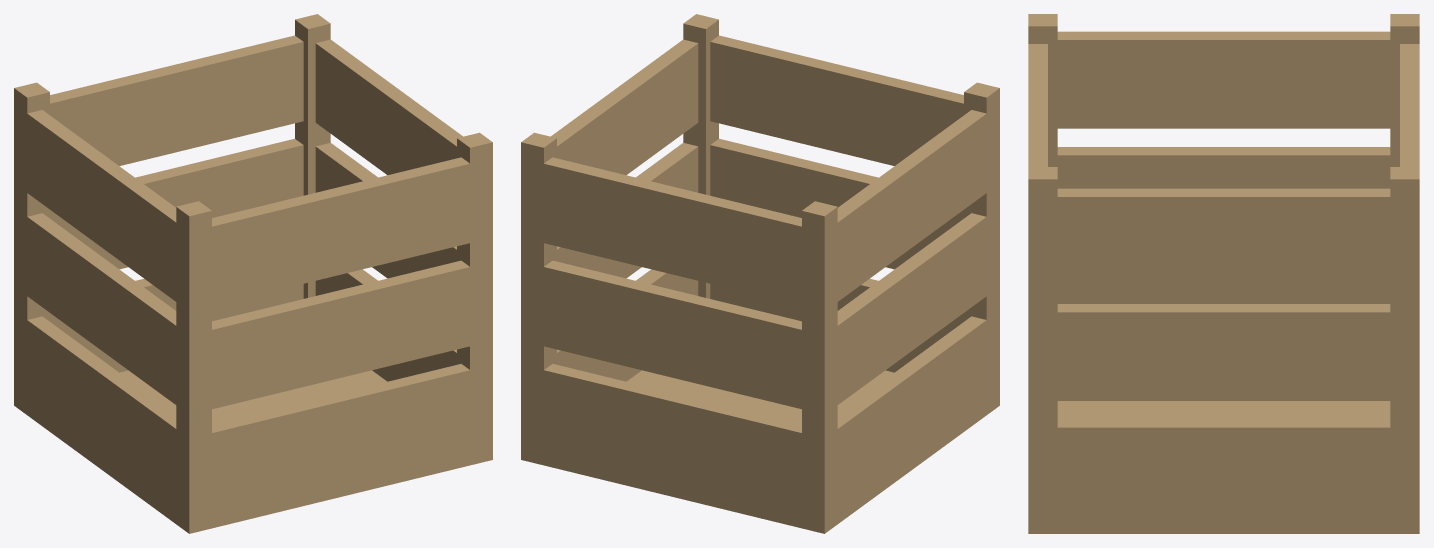
Rendered from caja.glb.
3 views of the same model, side by side, from view 1: azimuth 30°, elevation 25°; view 2: azimuth 150°, elevation 25°; view 3: azimuth 270°, elevation 25° (orthographic). The views are drawn at different scales.
Visible parts, largest first — view 1: caja; view 2: caja; view 3: caja.
Part boxes in pixels (bbox=[...]): caja: bbox=[14, 14, 492, 533]; caja: bbox=[521, 14, 999, 533]; caja: bbox=[1028, 14, 1419, 533].
Size of the model in its own units: 0.4 by 0.4 by 0.4.
